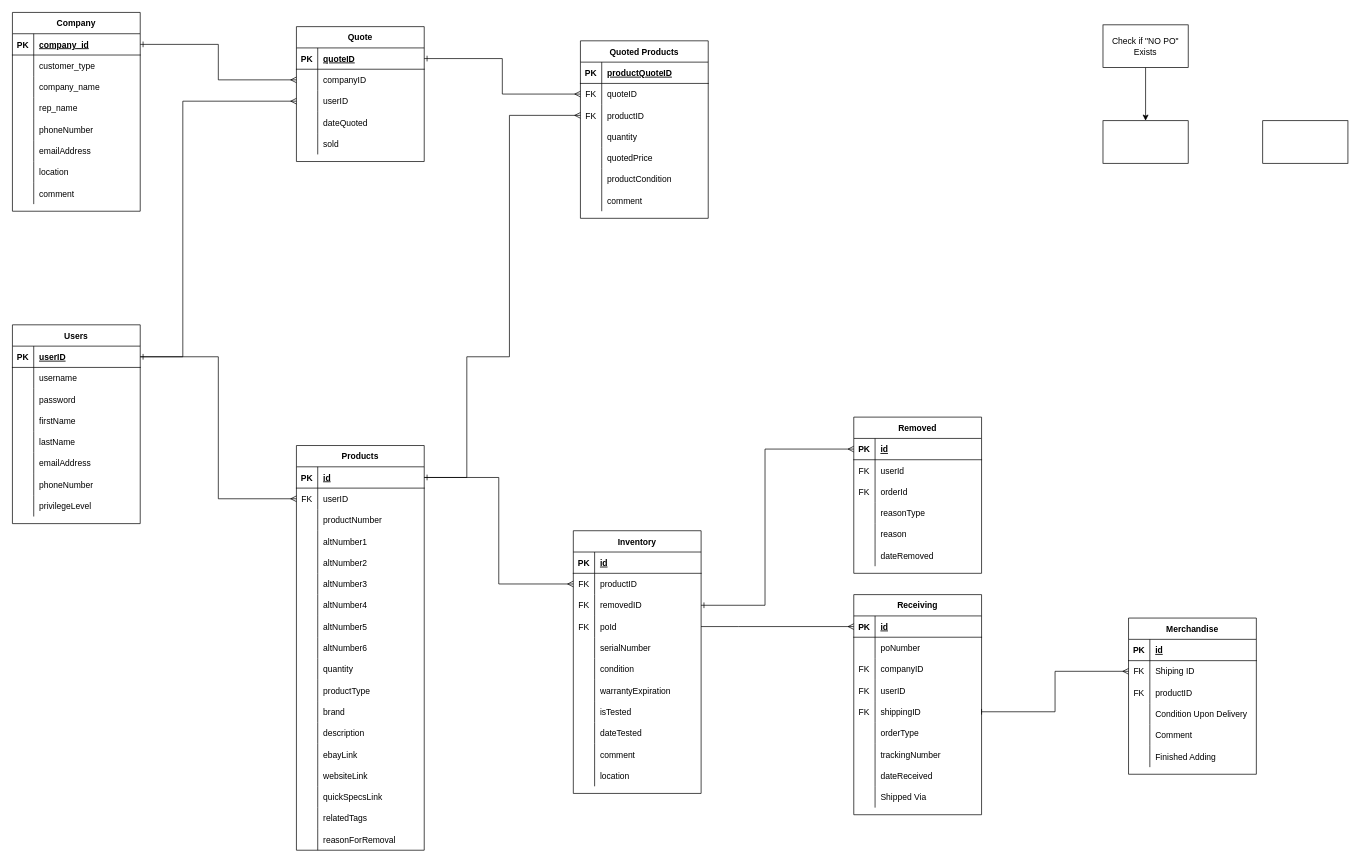
The diagram is 1360 pixels wide and 863 high, and some of its shapes have lost their labels. Here are the shapes that lost their labels. From the top down, the centre of each, then its label:
[1145,141]: Create it
[1305,141]: Check if product exists
